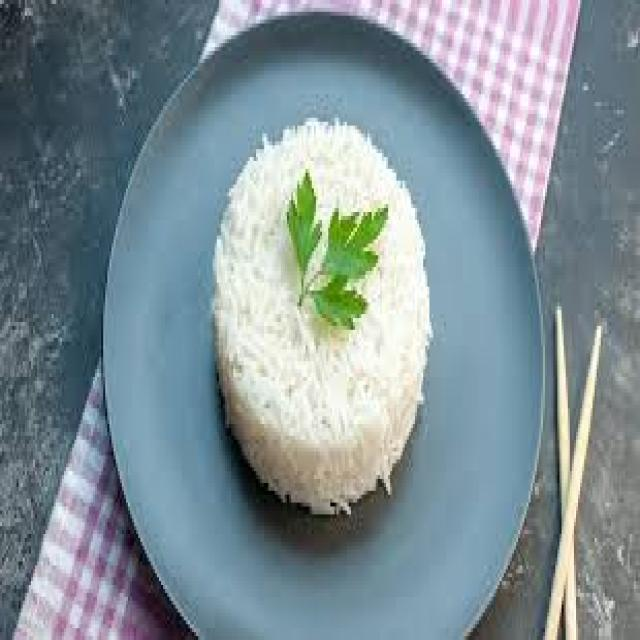nasi: (210, 116, 443, 503)
